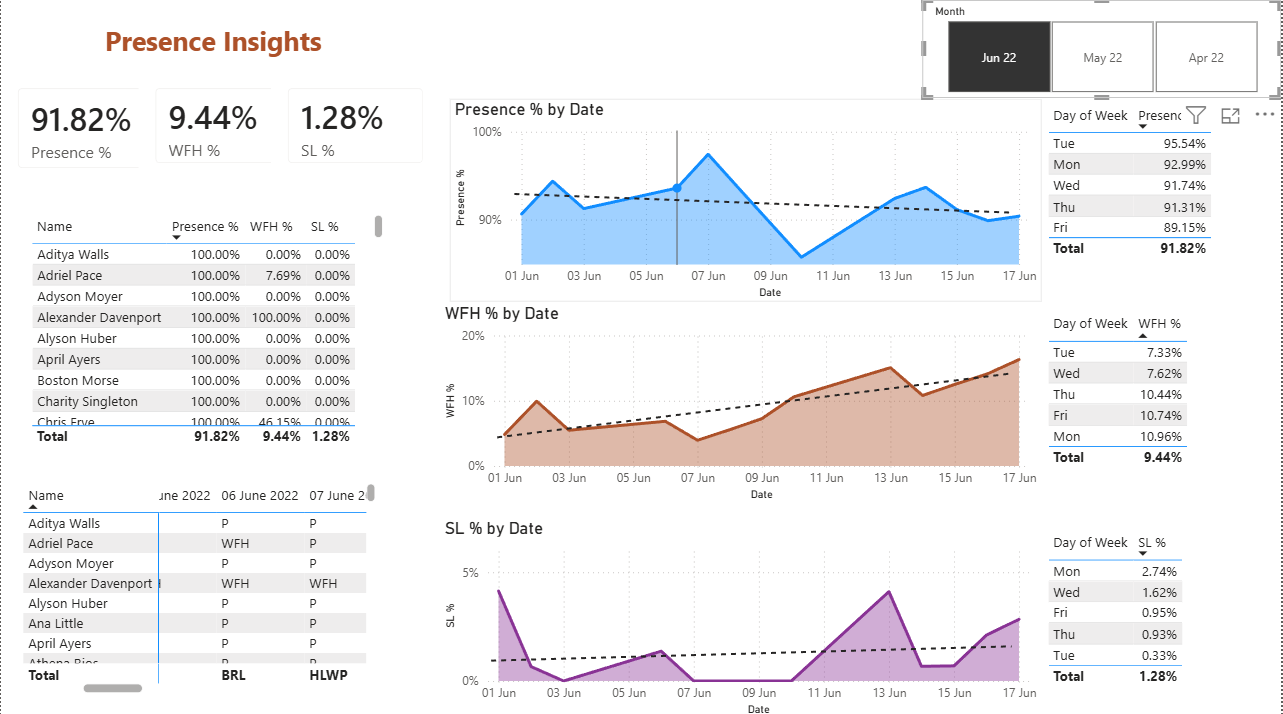

This screenshot's page, from the dashboard's own definition file:
{"tool":"powerbi","page":{"name":"Presence insights","canvas":[1280,720],"ordinal":0},"visuals":[{"type":"cardVisual","fields":{"Data":["Measure Table.Presence %"]},"box":[0,71,182,114],"z":2000},{"type":"slicer","fields":{"Values":["Final Data.Month"]},"box":[921,0,359,99],"z":3000},{"type":"cardVisual","fields":{"Data":["Measure Table.WFH %"]},"box":[138,71,169,109],"z":4000},{"type":"cardVisual","fields":{"Data":["Measure Table.SL %"]},"box":[270,71,169,109],"z":5000},{"type":"tableEx","fields":{"Values":["Final Data.Name","Measure Table.Presence %","Measure Table.WFH %","Measure Table.SL %"]},"box":[25,210,362,241],"z":5001},{"type":"textbox","box":[99,18,228,63],"z":5002},{"type":"pivotTable","fields":{"Rows":["Final Data.Name"],"Columns":["Final Data.Date"],"Values":["Min(Final Data.Value)"]},"box":[18,479,362,219],"z":5003},{"type":"areaChart","fields":{"Category":["Final Data.Date"],"Y":["Measure Table.Presence %"]},"box":[448.8,98.8,592.5,203.8],"z":5004},{"type":"areaChart","fields":{"Category":["Final Data.Date"],"Y":["Measure Table.WFH %"]},"box":[438.8,302.5,602.5,202.5],"z":5005},{"type":"areaChart","fields":{"Category":["Final Data.Date"],"Y":["Measure Table.SL %"]},"box":[438.8,517.5,602.5,202.5],"z":5006},{"type":"tableEx","fields":{"Values":["Final Data.Day of Week","Measure Table.Presence %"]},"box":[1041.2,98.8,192.5,171.2],"z":5007},{"type":"tableEx","fields":{"Values":["Final Data.Day of Week","Measure Table.WFH %"]},"box":[1041.2,307.5,177.5,171.2],"z":5008},{"type":"tableEx","fields":{"Values":["Final Data.Day of Week","Measure Table.SL %"]},"box":[1041.2,526.2,192.5,171.2],"z":5009}]}

Visuals, with their boxes in screenshot pixels (x1, y1, x2, y2), scaled from the page's 1280x720 canvas onto the 1283x714 screenshot:
cardVisual - Measure Table.Presence %: x1=0, y1=70, x2=182, y2=183
slicer - Final Data.Month: x1=923, y1=0, x2=1282, y2=98
cardVisual - Measure Table.WFH %: x1=138, y1=70, x2=308, y2=178
cardVisual - Measure Table.SL %: x1=271, y1=70, x2=440, y2=178
tableEx - Final Data.Name x Measure Table.Presence %: x1=25, y1=208, x2=388, y2=447
textbox: x1=99, y1=18, x2=328, y2=80
pivotTable - Final Data.Name x Final Data.Date: x1=18, y1=475, x2=381, y2=692
areaChart - Final Data.Date x Measure Table.Presence %: x1=450, y1=98, x2=1044, y2=300
areaChart - Final Data.Date x Measure Table.WFH %: x1=440, y1=300, x2=1044, y2=501
areaChart - Final Data.Date x Measure Table.SL %: x1=440, y1=513, x2=1044, y2=713
tableEx - Final Data.Day of Week x Measure Table.Presence %: x1=1044, y1=98, x2=1237, y2=268
tableEx - Final Data.Day of Week x Measure Table.WFH %: x1=1044, y1=305, x2=1222, y2=475
tableEx - Final Data.Day of Week x Measure Table.SL %: x1=1044, y1=522, x2=1237, y2=692
